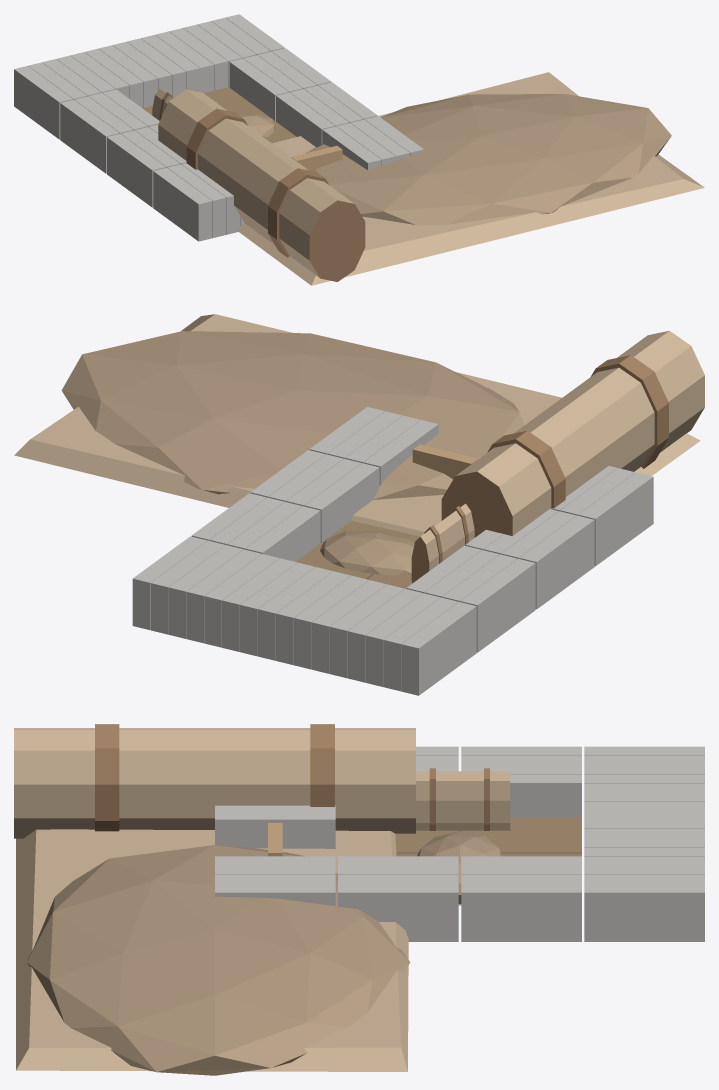
The model's file is building_stone_house_foundation.glb.
The picture shows the model from 3 angles, top to bottom: view 1: azimuth 30°, elevation 25°; view 2: azimuth 150°, elevation 25°; view 3: azimuth 270°, elevation 25°; orthographic projection. The views are drawn at different scales.
Parts seen in each view (by area): view 1: building_stone_house_foundation; view 2: building_stone_house_foundation; view 3: building_stone_house_foundation.
Boxes of the visible parts, x1=… form: building_stone_house_foundation: x1=14, y1=14, x2=704, y2=285; building_stone_house_foundation: x1=14, y1=314, x2=704, y2=695; building_stone_house_foundation: x1=14, y1=724, x2=704, y2=1075.
Size of the model in its own units: 1 by 0.2073 by 1.
